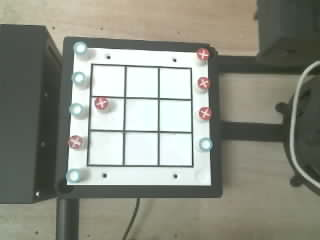blue circle: (73, 41, 88, 55), (72, 72, 86, 86), (199, 138, 213, 152), (69, 103, 83, 116), (66, 169, 80, 182)
board: (66, 42, 212, 185)
cells: (89, 132, 122, 164), (125, 133, 157, 165), (91, 98, 123, 129), (92, 65, 124, 96), (160, 68, 191, 99), (160, 134, 191, 165), (126, 99, 157, 130), (160, 100, 191, 131), (127, 67, 157, 97)
grid: (87, 64, 193, 167)
red cross: (68, 135, 82, 148), (94, 97, 108, 109), (199, 107, 212, 119), (197, 48, 209, 60), (198, 77, 210, 89)
